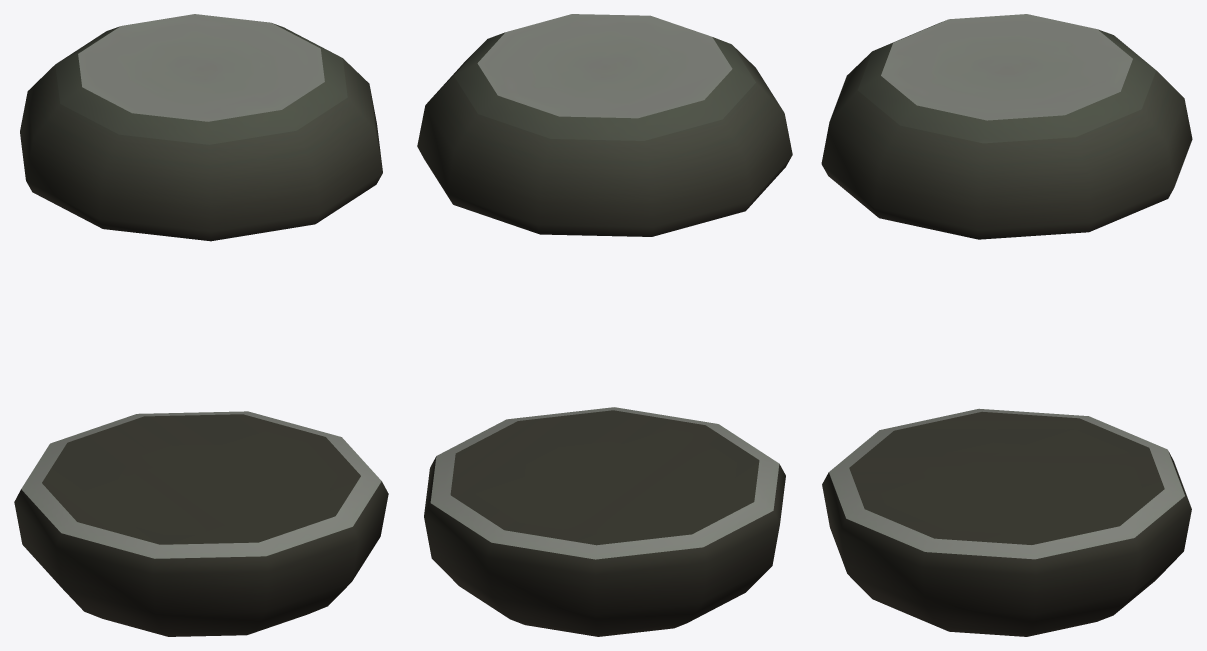
File: GenericMaterialContainer.fbx
3 renders of one model, left to right at view 1: azimuth 30°, elevation 25°; view 2: azimuth 150°, elevation 25°; view 3: azimuth 270°, elevation 25°, orthographic.
Visible parts, largest first — view 1: GenericMaterialContainer; view 2: GenericMaterialContainer; view 3: GenericMaterialContainer.
Boxes of the visible parts, x1,y1,x2,y2 form: GenericMaterialContainer: (14,14,388,636); GenericMaterialContainer: (417,14,792,636); GenericMaterialContainer: (821,14,1192,636).
Size of the model in its own units: 128 by 196 by 128.
